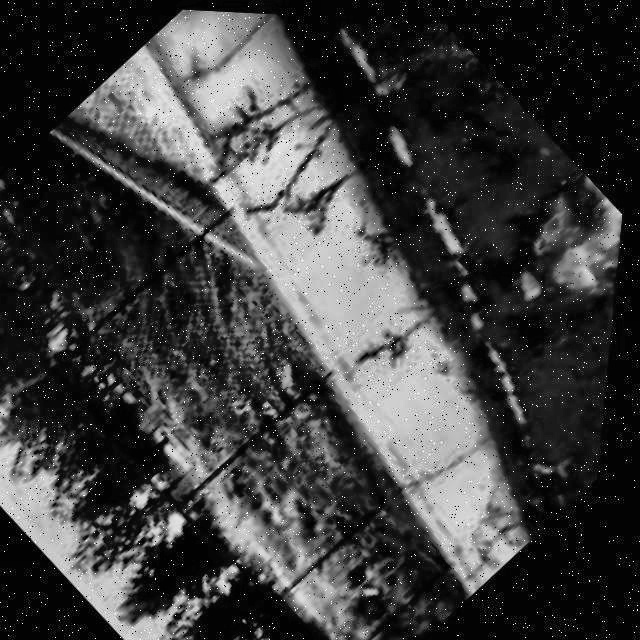Fire: (509, 162, 629, 344)
